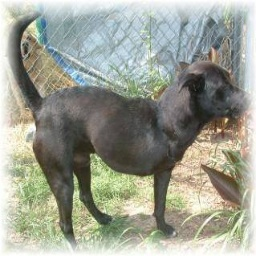dog: (18, 57, 245, 244)
